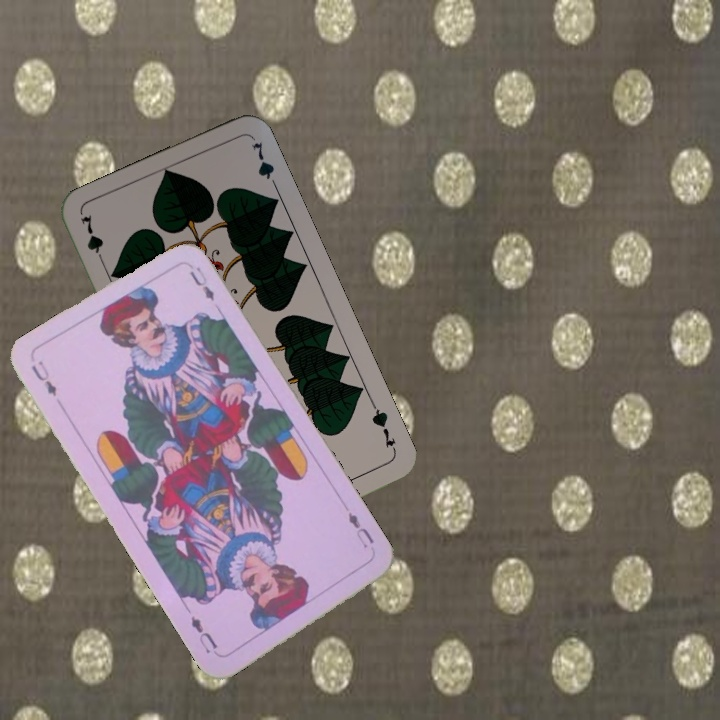EU: (343, 507, 377, 551), (27, 356, 59, 399)
G7: (76, 211, 108, 269), (367, 400, 399, 456)
